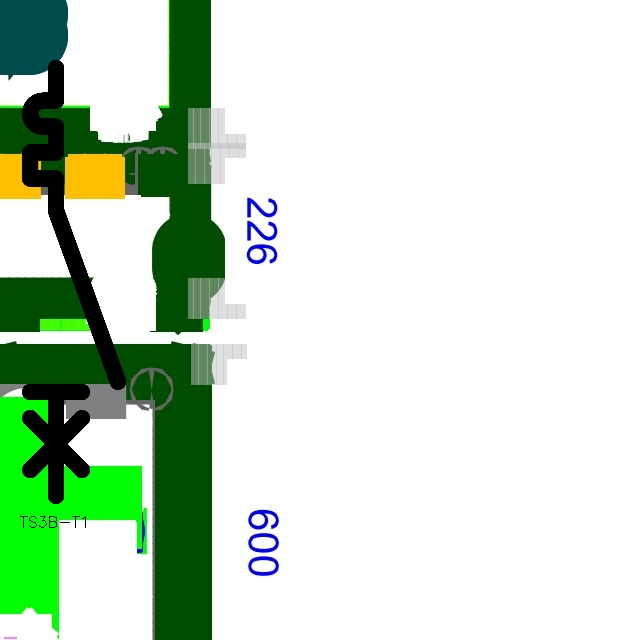interruptor_termomagnetico: (19, 57, 129, 507)
